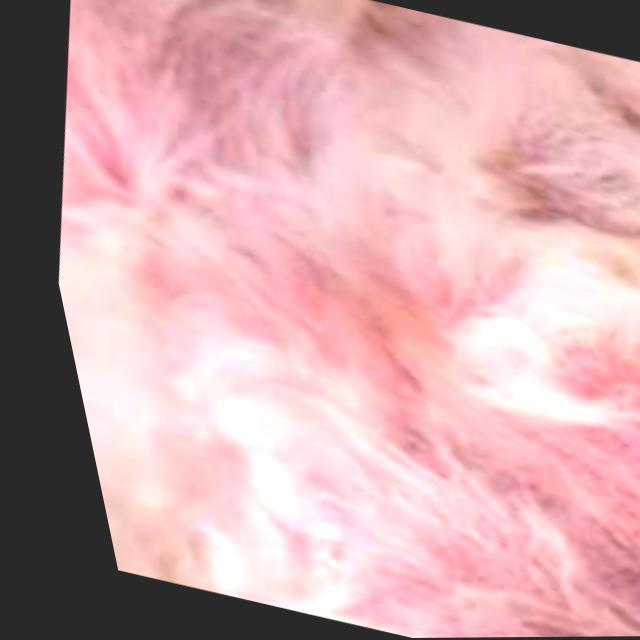fungal infection: (406, 424, 640, 640), (84, 0, 338, 162), (92, 432, 268, 588), (474, 121, 640, 239), (328, 263, 472, 372), (522, 30, 640, 137), (322, 0, 472, 71), (536, 311, 640, 411)
